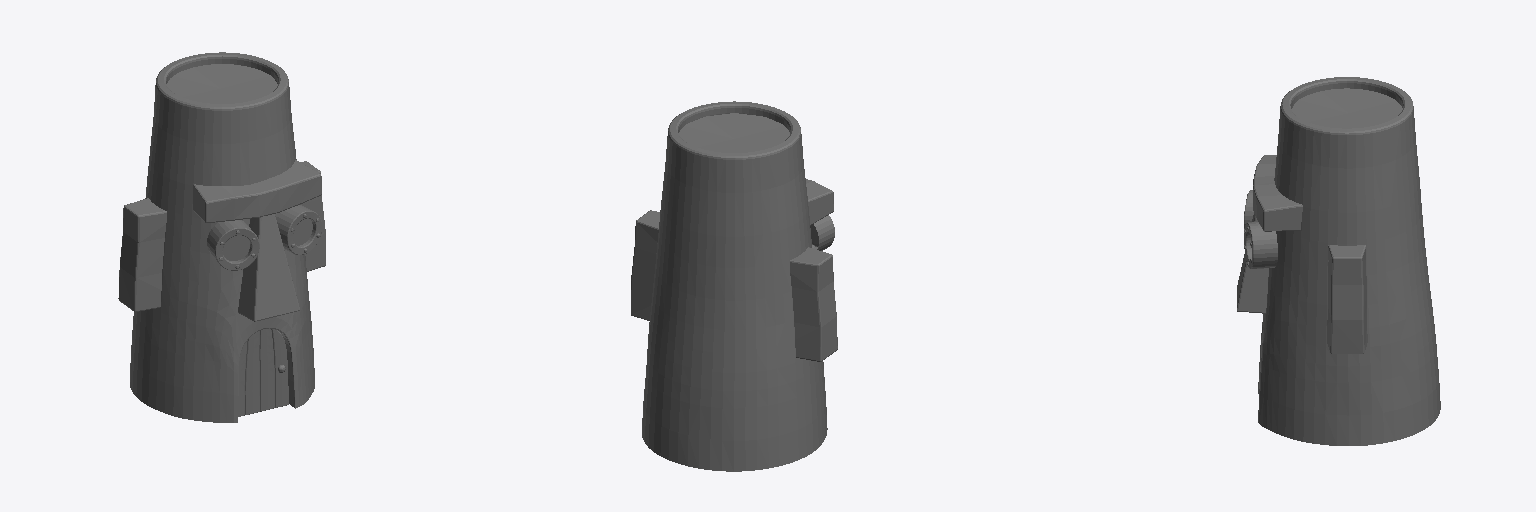
The model's file is CasaCalamardo.obj.
The picture shows the model from 3 angles: view 1: azimuth 30°, elevation 25°; view 2: azimuth 150°, elevation 25°; view 3: azimuth 270°, elevation 25°; orthographic projection.
Parts seen in each view (by area): view 1: model_0, model_2, model_1; view 2: model_0, model_2, model_1; view 3: model_0, model_2, model_1.
Part boxes in pixels (left/top/right/bottom): model_0: left=118, top=52, right=325, bottom=422; model_2: left=167, top=64, right=288, bottom=416; model_1: left=207, top=205, right=321, bottom=270; model_0: left=631, top=101, right=837, bottom=471; model_2: left=679, top=113, right=789, bottom=152; model_1: left=810, top=215, right=834, bottom=250; model_0: left=1237, top=77, right=1440, bottom=445; model_2: left=1291, top=88, right=1402, bottom=128; model_1: left=1244, top=190, right=1277, bottom=268.
Size of the model in its own units: 11.21 by 16.99 by 16.28.